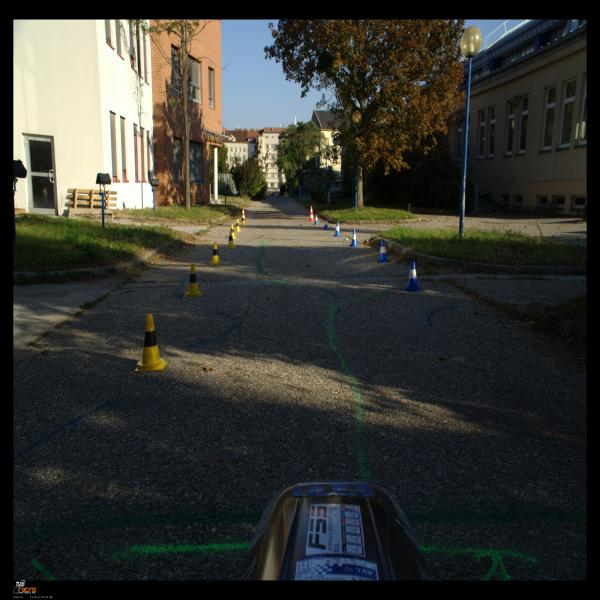blue_cone: (403, 260, 422, 292), (377, 240, 389, 262), (350, 229, 358, 247), (334, 222, 341, 236), (323, 218, 329, 230), (314, 214, 319, 224)
large_orange_cone: (308, 206, 315, 221), (240, 207, 246, 222)
yellow_cone: (135, 314, 167, 371), (183, 264, 203, 297), (209, 242, 222, 265), (226, 230, 236, 248), (231, 224, 236, 239), (234, 219, 240, 231), (240, 215, 246, 225)
